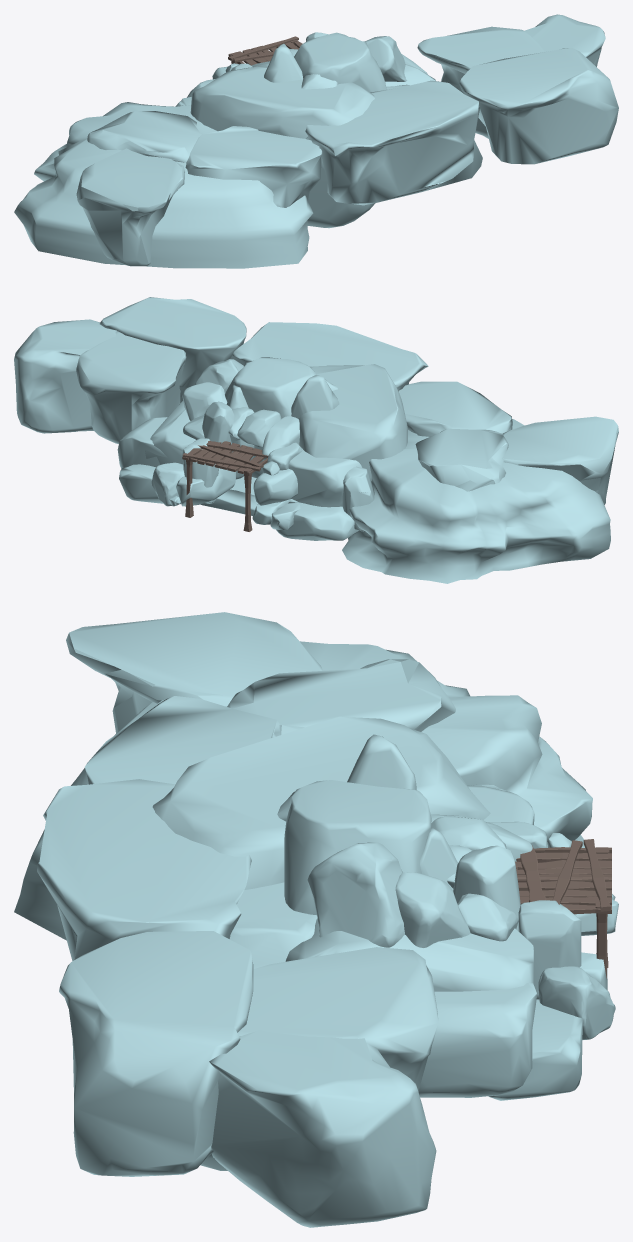
File: Snow_Door.fbx
The picture shows the model from 3 angles, top to bottom: view 1: azimuth 30°, elevation 25°; view 2: azimuth 150°, elevation 25°; view 3: azimuth 270°, elevation 25°; orthographic projection. The views are drawn at different scales.
Parts seen in each view (by area): view 1: polySurface3020, polySurface3017, polySurface3016, polySurface2992, polySurface3012, polySurface3013, polySurface3014, polySurface3011, polySurface2985, polySurface3015, polySurface3008, polySurface2994 (+3 smaller); view 2: polySurface3020, polySurface3014, polySurface2992, polySurface3015, polySurface3016, polySurface3017, polySurface3012, polySurface3013, polySurface3011, polySurface2985, polySurface2978, Wood_Gate (+21 smaller); view 3: polySurface3016, polySurface3015, polySurface3017, polySurface2992, polySurface3020, polySurface3014, polySurface3012, polySurface2985, polySurface3011, polySurface2997, polySurface3013, polySurface3008 (+13 smaller).
Part boxes in pixels (x1,y1,x2,y2): polySurface3020: (14, 102, 313, 268); polySurface3017: (305, 80, 482, 205); polySurface3016: (459, 48, 618, 164); polySurface2992: (190, 66, 375, 228); polySurface3012: (76, 148, 184, 266); polySurface3013: (185, 126, 322, 207); polySurface3014: (417, 26, 543, 138); polySurface3011: (87, 111, 202, 162); polySurface2985: (294, 32, 386, 92); polySurface3015: (524, 14, 605, 66); polySurface3008: (365, 36, 407, 81); polySurface2994: (264, 43, 303, 82); polySurface3020: (342, 419, 610, 583); polySurface3014: (76, 331, 186, 443); polySurface2992: (298, 364, 407, 481); polySurface3015: (14, 319, 116, 433); polySurface3016: (99, 297, 246, 402); polySurface3017: (231, 322, 428, 391); polySurface3012: (502, 416, 618, 504); polySurface3013: (398, 381, 512, 436); polySurface3011: (415, 428, 508, 491); polySurface2985: (225, 357, 316, 478); polySurface2978: (288, 447, 362, 507); Wood_Gate: (182, 440, 268, 531); polySurface3016: (59, 931, 253, 1176); polySurface3015: (209, 1030, 436, 1227); polySurface3017: (37, 779, 251, 960); polySurface2992: (152, 716, 490, 889); polySurface3020: (14, 641, 592, 940); polySurface3014: (200, 947, 438, 1170); polySurface3012: (66, 612, 322, 733); polySurface2985: (284, 780, 431, 915); polySurface3011: (227, 659, 455, 734); polySurface2997: (418, 983, 537, 1097); polySurface3013: (85, 696, 280, 784); polySurface3008: (307, 842, 404, 947).
Bounding box in the file's own units: 49.42 × 11.53 × 23.28.
